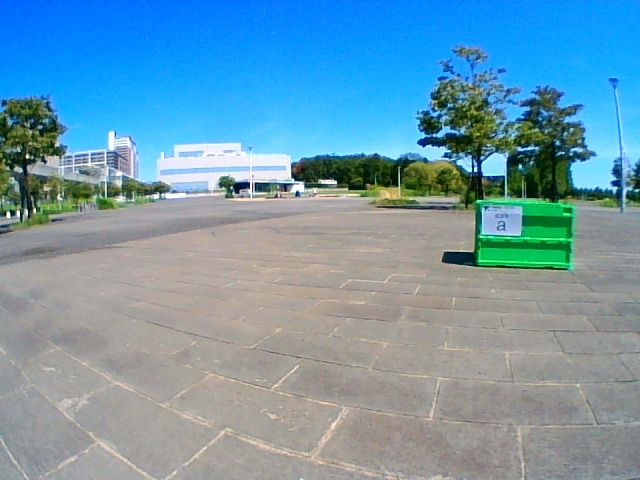green_box: (473, 199, 573, 270)
tag_a: (483, 206, 519, 234)
